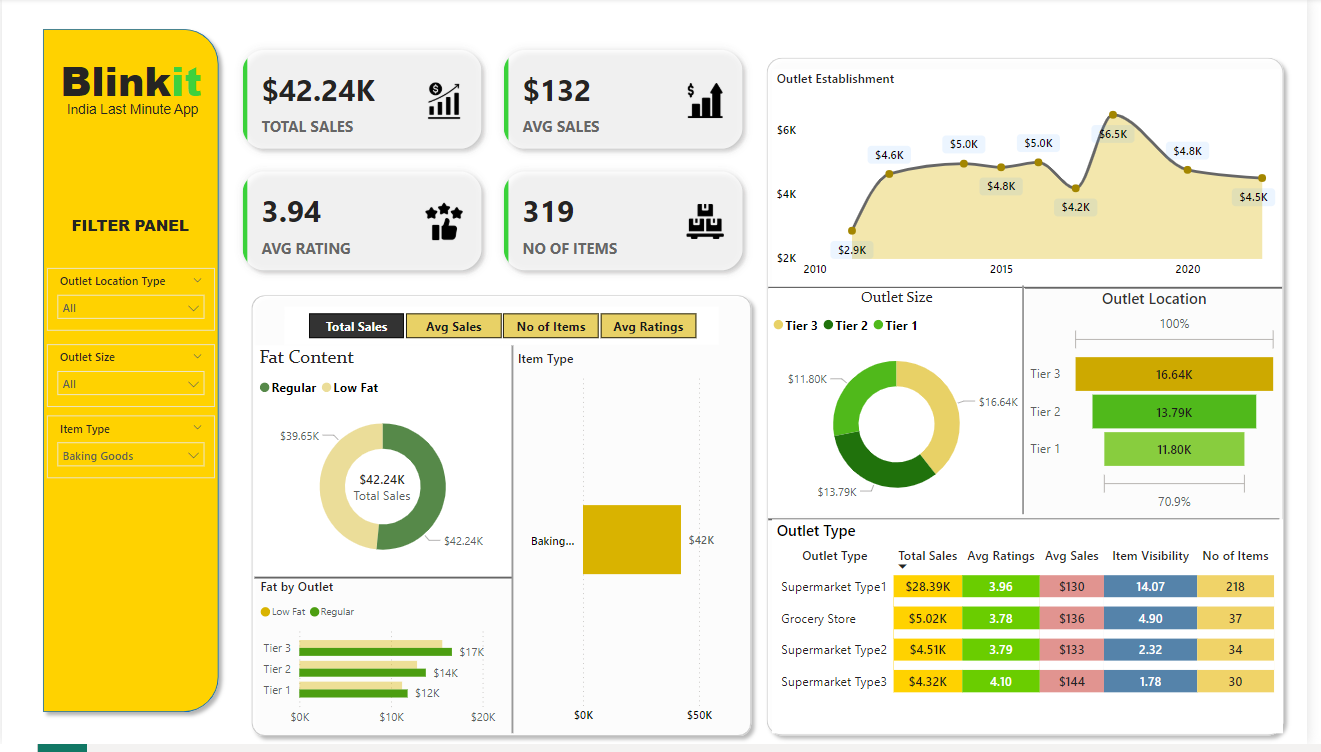

The page's visual inventory and layout, read from the dashboard file:
{"tool":"powerbi","page":{"name":"Page 1","canvas":[1400,800],"ordinal":0},"visuals":[{"type":"shape","box":[34.9,24.1,206.4,750.7],"z":0},{"type":"textbox","box":[48,54,180.1,88.6],"z":1000},{"type":"textbox","box":[64.5,103.6,163.6,39],"z":2000},{"type":"cardVisual","fields":{"Data":["BlinkIT Grocery Data.Total Sales","BlinkIT Grocery Data.Avg Sales","BlinkIT Grocery Data.Avg Ratings","BlinkIT Grocery Data.No of Items"]},"box":[241.6,39,570.3,270.2],"z":3000},{"type":"shape","box":[258.1,309.2,553.8,490.8],"z":4000},{"type":"donutChart","title":" Fat Content","fields":{"Y":["BlinkIT Grocery Data.Total Sales"],"Category":["BlinkIT Grocery Data.Item Fat Content"]},"box":[271,372.4,275.5,248.3],"z":5000},{"type":"slicer","fields":{"Values":["Metrics.Metrics"]},"box":[303.2,331.7,465.3,40.5],"z":6000},{"type":"cardVisual","fields":{"Data":["BlinkIT Grocery Data.Total Sales"]},"box":[352.7,481.4,110.5,87.8],"z":7000},{"type":"clusteredBarChart","title":"Fat by Outlet","fields":{"Y":["BlinkIT Grocery Data.Total Sales"],"Category":["BlinkIT Grocery Data.Outlet Location Type"],"Series":["BlinkIT Grocery Data.Item Fat Content"]},"box":[271.7,621.4,276.2,166.6],"z":8000},{"type":"shape","box":[271,602.5,277,39.4],"z":9000},{"type":"shape","box":[523.8,372.2,46.5,415.7],"z":10000},{"type":"barChart","title":"Item Type","fields":{"Y":["BlinkIT Grocery Data.Total Sales"],"Category":["BlinkIT Grocery Data.Item Type"]},"box":[547.8,376.7,249.1,411.2],"z":11000},{"type":"shape","box":[811.4,54.5,572.2,744.8],"z":12000},{"type":"lineChart","title":"Outlet Establishment ","fields":{"Category":["BlinkIT Grocery Data.Outlet Establishment Year"],"Y":["BlinkIT Grocery Data.Total Sales"]},"box":[825.5,76.5,544.8,232.6],"z":13000},{"type":"shape","box":[822,289.1,551,42.4],"z":14000},{"type":"donutChart","title":"Outlet Size","fields":{"Y":["BlinkIT Grocery Data.Total Sales"],"Category":["BlinkIT Grocery Data.Outlet Location Type"]},"box":[822,310.3,275.5,243.7],"z":15000},{"type":"funnel","title":"Outlet Location ","fields":{"Category":["BlinkIT Grocery Data.Outlet Location Type"],"Y":["Sum(BlinkIT Grocery Data.Sales)"]},"box":[1097.5,310.3,275.5,243.7],"z":16000},{"type":"shape","box":[1079.4,308.8,31.8,245.2],"z":17000},{"type":"shape","box":[822,534.4,548,48.4],"z":18000},{"type":"pivotTable","title":"Outlet Type","fields":{"Rows":["BlinkIT Grocery Data.Outlet Type"],"Values":["BlinkIT Grocery Data.Total Sales","BlinkIT Grocery Data.Avg Ratings","BlinkIT Grocery Data.Avg Sales","Sum(BlinkIT Grocery Data.Item Visibility)","BlinkIT Grocery Data.No of Items"]},"box":[825.7,559,548.3,229.2],"z":19000},{"type":"slicer","fields":{"Values":["BlinkIT Grocery Data.Outlet Location Type"]},"box":[48.3,289.5,179.6,67],"z":19001},{"type":"slicer","fields":{"Values":["BlinkIT Grocery Data.Outlet Size"]},"box":[48.3,371.3,179.6,67],"z":19002},{"type":"slicer","fields":{"Values":["BlinkIT Grocery Data.Item Type"]},"box":[48.3,447.7,179.6,67],"z":19003},{"type":"textbox","box":[60.3,227.9,154.2,49.6],"z":19004}]}

Visuals, with their boxes in screenshot pixels (x1, y1, x2, y2), scaled from the page's 1400x800 canvas onto the 1321x752 screenshot:
shape: BBox(33, 23, 228, 728)
textbox: BBox(45, 51, 215, 134)
textbox: BBox(61, 97, 215, 134)
cardVisual - BlinkIT Grocery Data.Total Sales x BlinkIT Grocery Data.Avg Sales: BBox(228, 37, 766, 291)
shape: BBox(244, 291, 766, 751)
" Fat Content" donutChart: BBox(256, 350, 516, 583)
slicer - Metrics.Metrics: BBox(286, 312, 725, 350)
cardVisual - BlinkIT Grocery Data.Total Sales: BBox(333, 453, 437, 535)
"Fat by Outlet" clusteredBarChart: BBox(256, 584, 517, 741)
shape: BBox(256, 566, 517, 603)
shape: BBox(494, 350, 538, 741)
"Item Type" barChart: BBox(517, 354, 752, 741)
shape: BBox(766, 51, 1306, 751)
"Outlet Establishment " lineChart: BBox(779, 72, 1293, 291)
shape: BBox(776, 272, 1296, 312)
"Outlet Size" donutChart: BBox(776, 292, 1036, 521)
"Outlet Location " funnel: BBox(1036, 292, 1296, 521)
shape: BBox(1018, 290, 1048, 521)
shape: BBox(776, 502, 1293, 548)
"Outlet Type" pivotTable: BBox(779, 525, 1296, 741)
slicer - BlinkIT Grocery Data.Outlet Location Type: BBox(46, 272, 215, 335)
slicer - BlinkIT Grocery Data.Outlet Size: BBox(46, 349, 215, 412)
slicer - BlinkIT Grocery Data.Item Type: BBox(46, 421, 215, 484)
textbox: BBox(57, 214, 202, 261)
